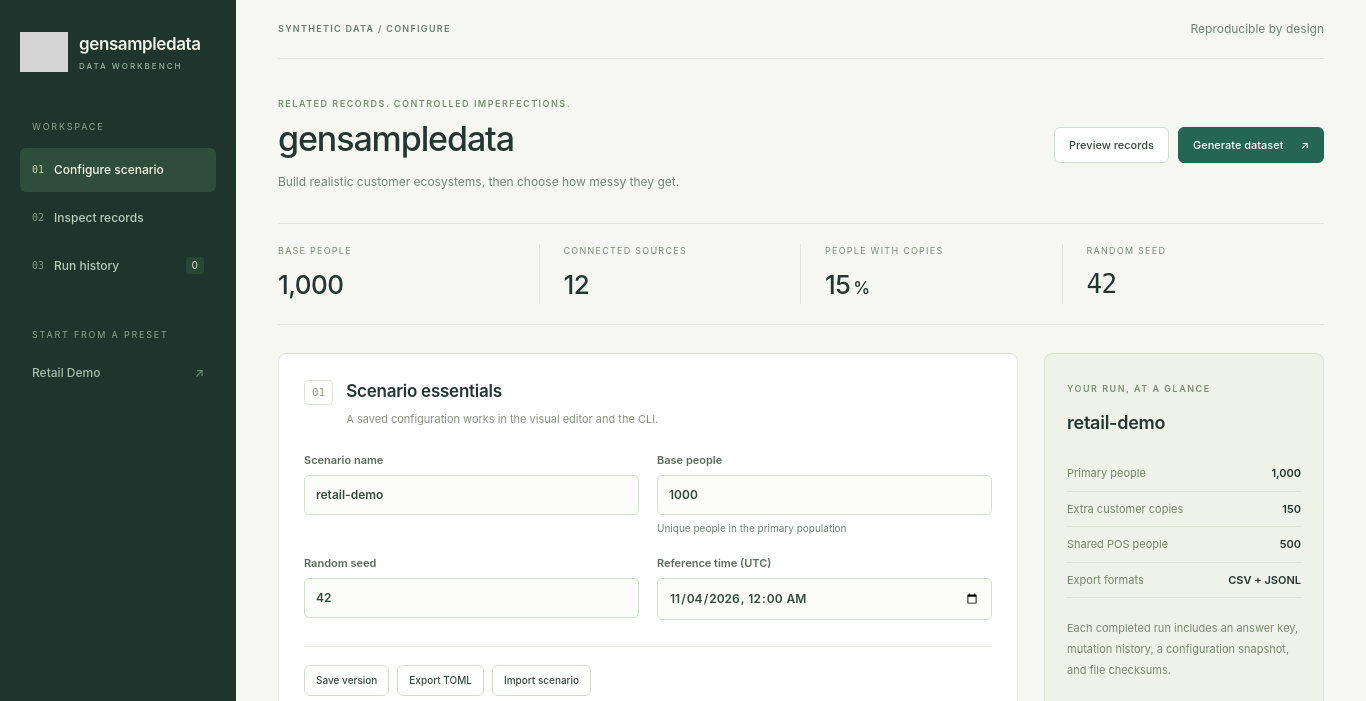
Test: workbench user flows › presents server validation errors and lets the user correct them
The image size is (1366, 701).
expect the number field labelled "Base people Unique people in the primary population" is shown: met, box x1=657 y1=475 x2=992 y2=515
What coordinates should you click on to do the following:
click the button "Save version"
I would click on:
 (347, 681)
Its box is x1=304 y1=665 x2=389 y2=696.
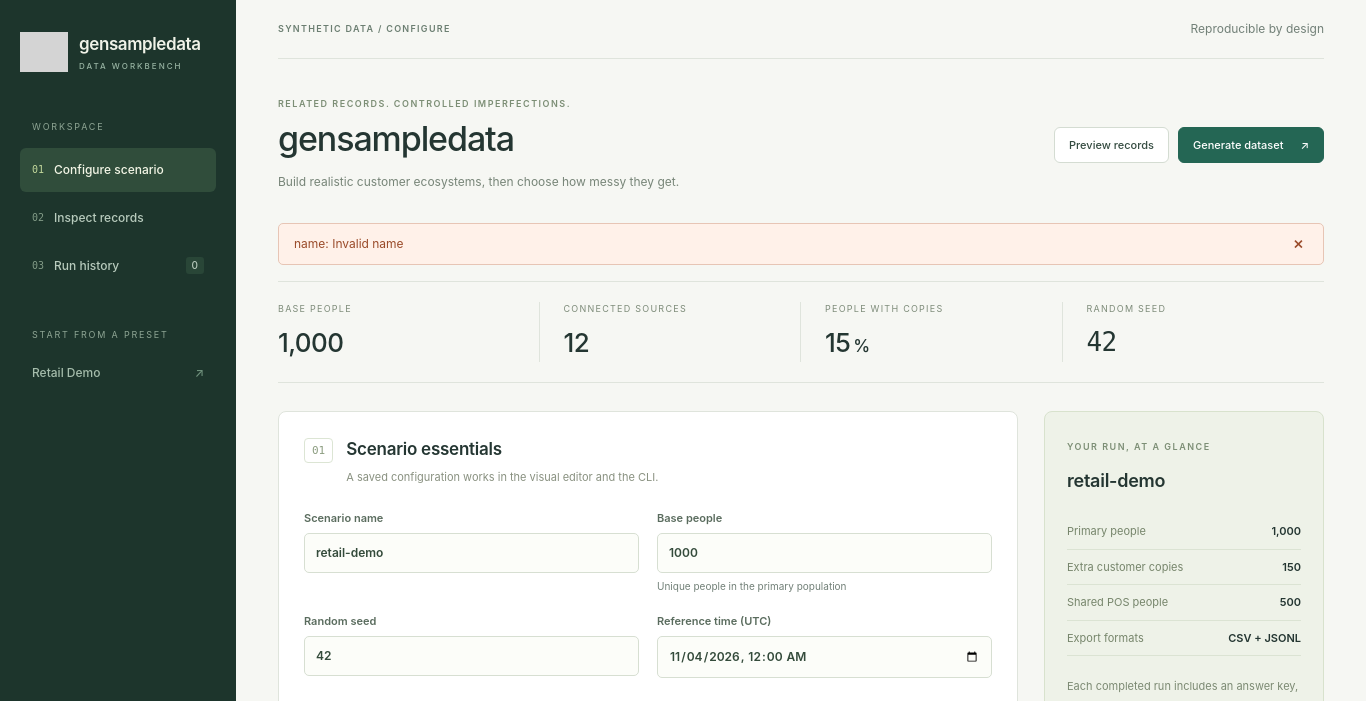
expect the message shows "name: Invalid name": met, box x1=294 y1=236 x2=404 y2=251
What coordinates should you click on to do the following:
click the button named "Dismiss error"
I would click on:
 (1298, 244)
Its box is x1=1289 y1=235 x2=1308 y2=253.
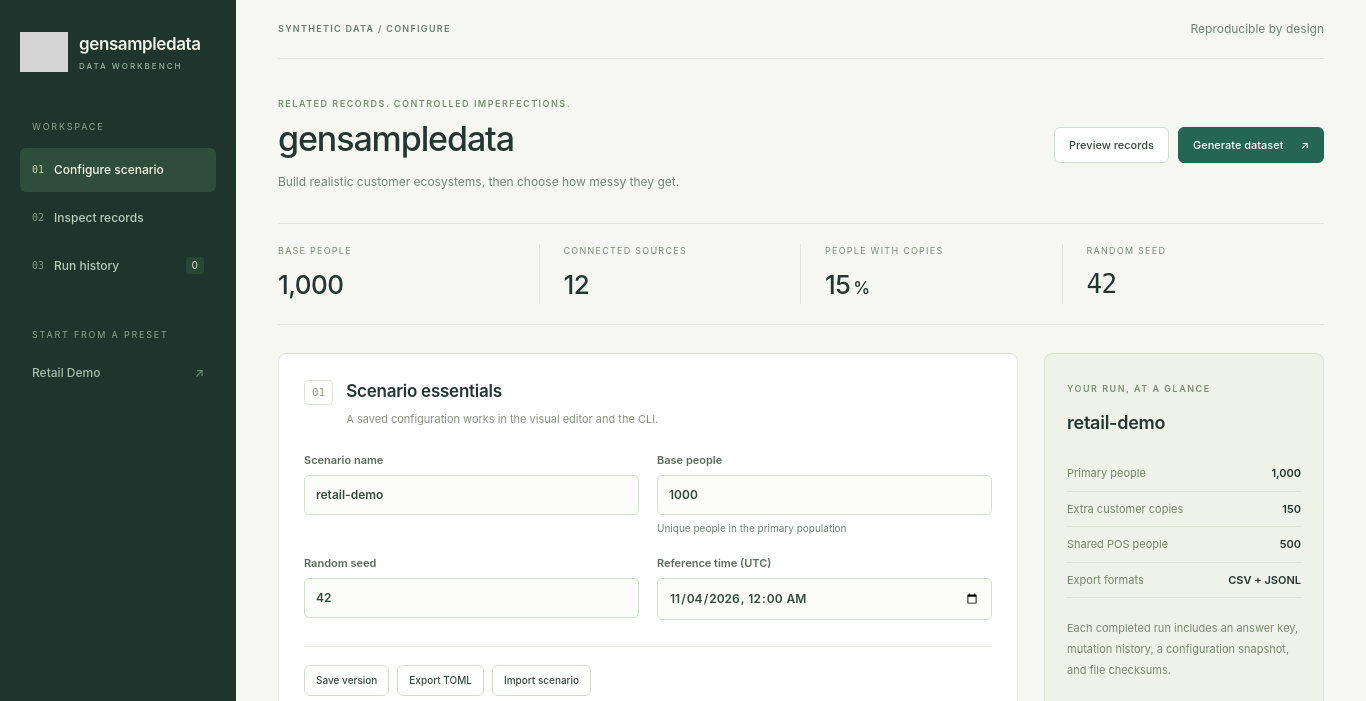
expect the message "name: Invalid name ×" is gone: met
